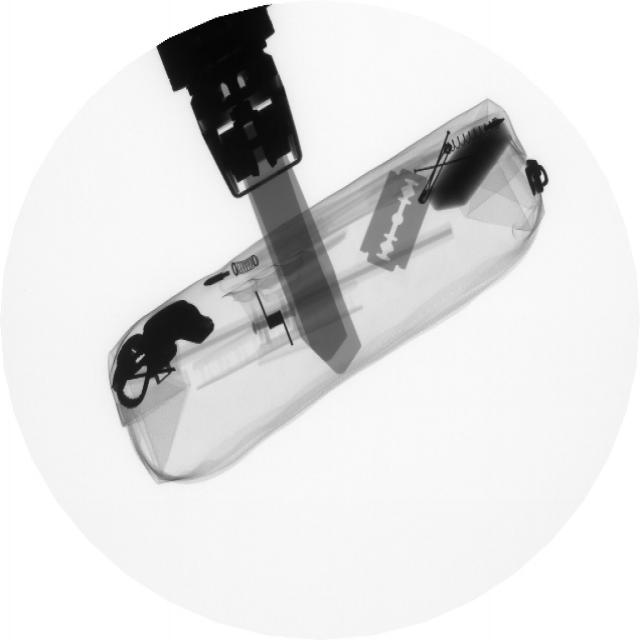BLADE: (357, 161, 436, 281)
